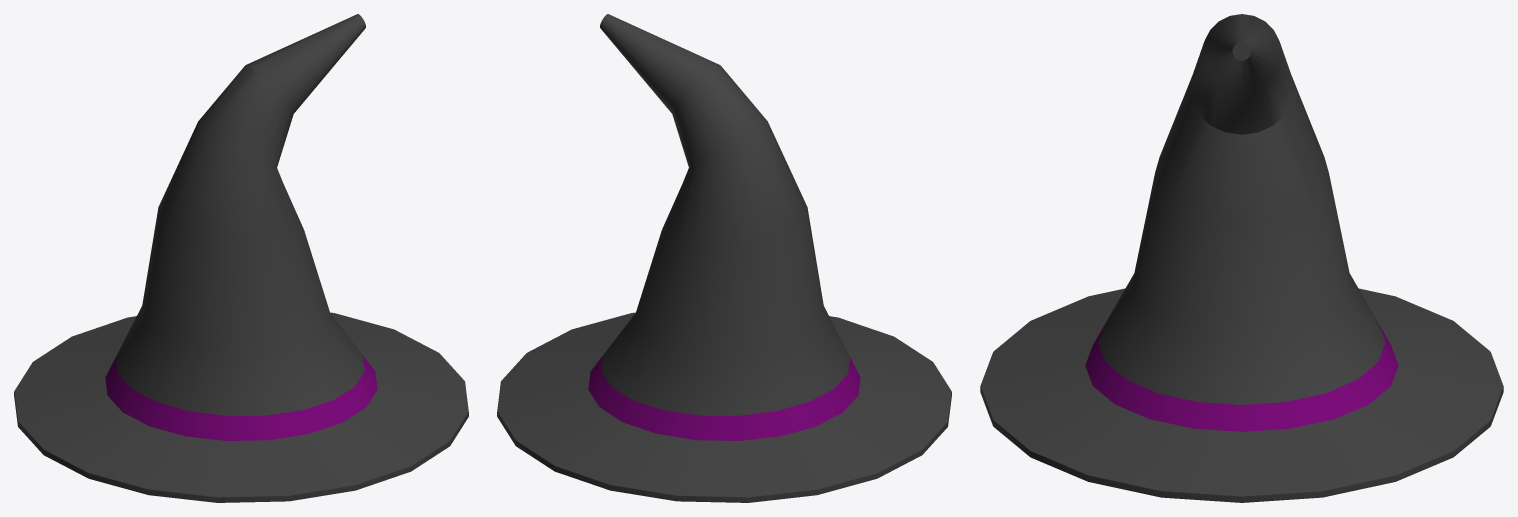
The model's file is TheWitchHat.fbx.
The picture shows the model from 3 angles, left to right: view 1: azimuth 30°, elevation 25°; view 2: azimuth 150°, elevation 25°; view 3: azimuth 270°, elevation 25°; orthographic projection. The views are drawn at different scales.
Parts seen in each view (by area): view 1: TheWitchHat; view 2: TheWitchHat; view 3: TheWitchHat.
Part boxes in pixels (x1,y1,x2,y2): TheWitchHat: (14,14,468,502); TheWitchHat: (497,14,951,502); TheWitchHat: (980,14,1503,502).
Size of the model in its own units: 2 by 1.78 by 2.
